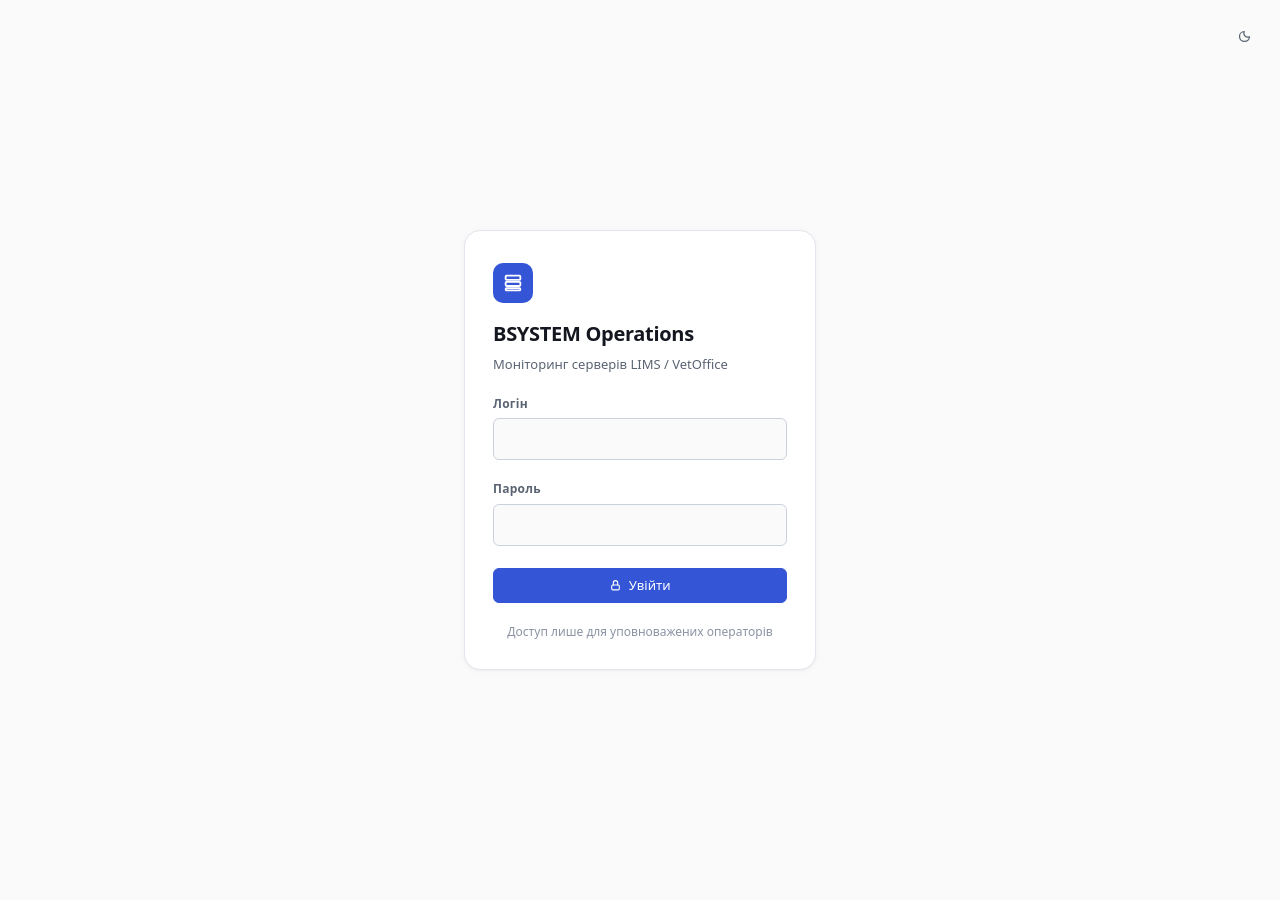
App › logs in and shows the overview with the server from the mock API
Type "admin" into the field labelled "Логін" at (640, 439), box [493,418,787,460]
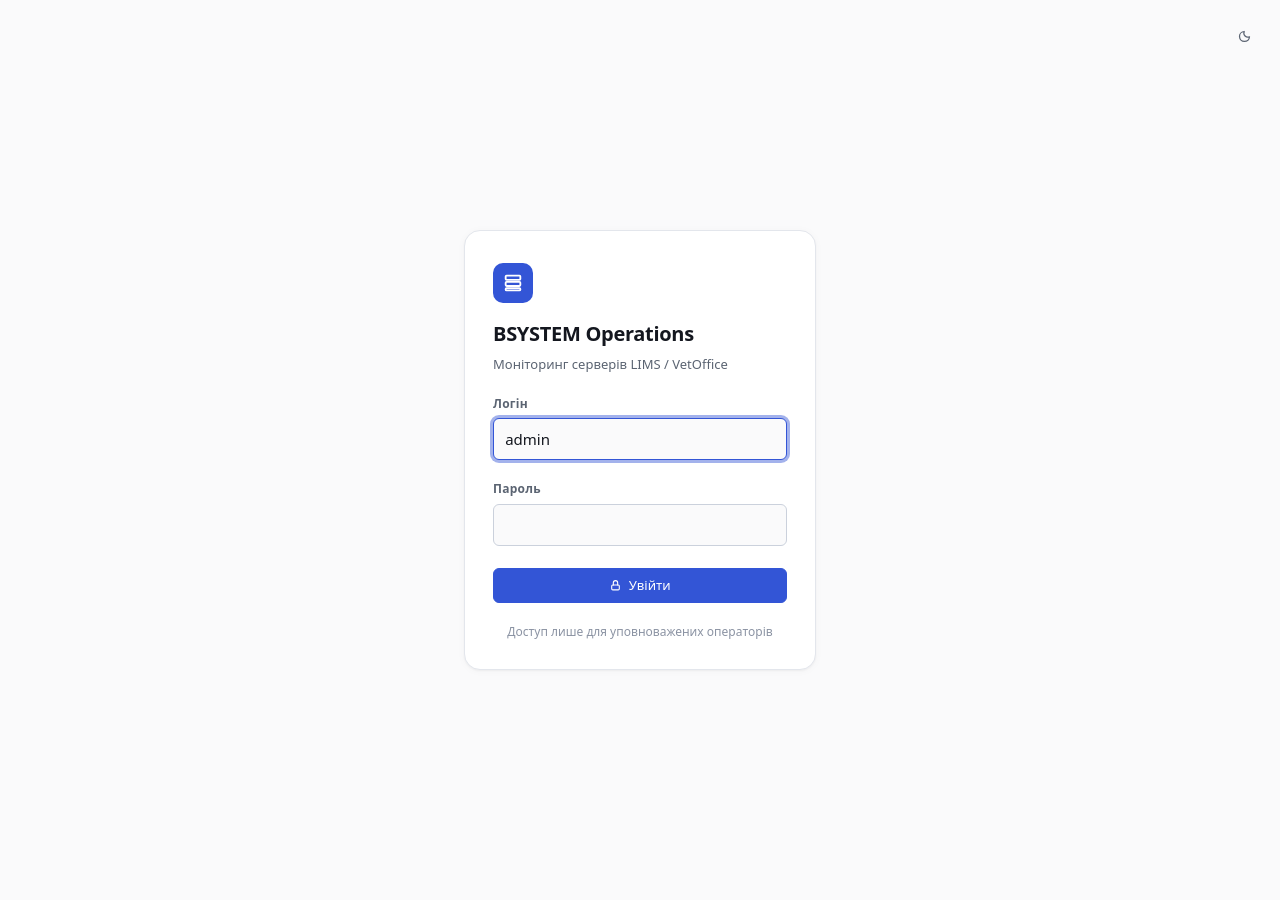
Type "test-password" into the password field labelled "Пароль" at (640, 525), box [493,504,787,546]
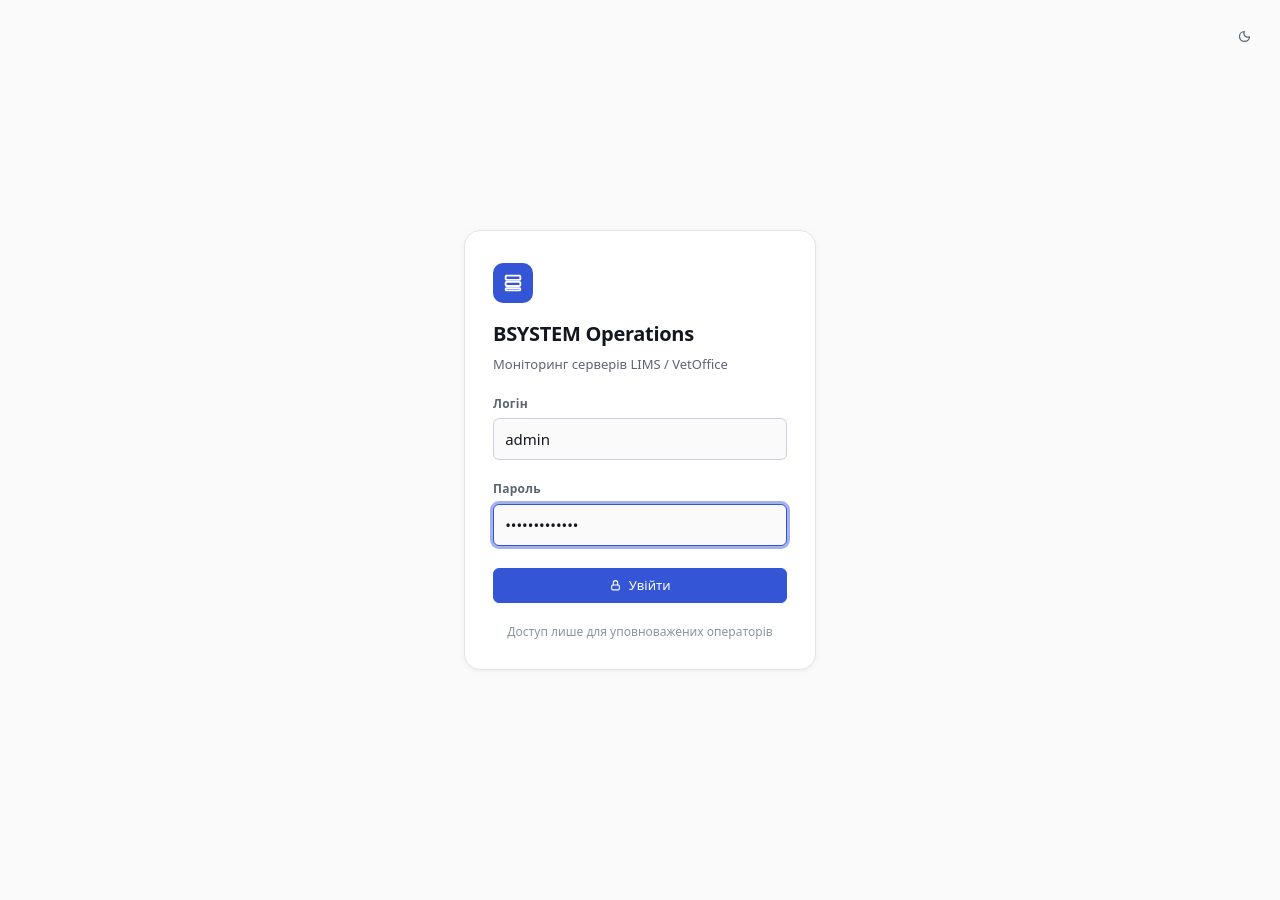
Click the button "Увійти" at (640, 585), box [493,568,787,603]
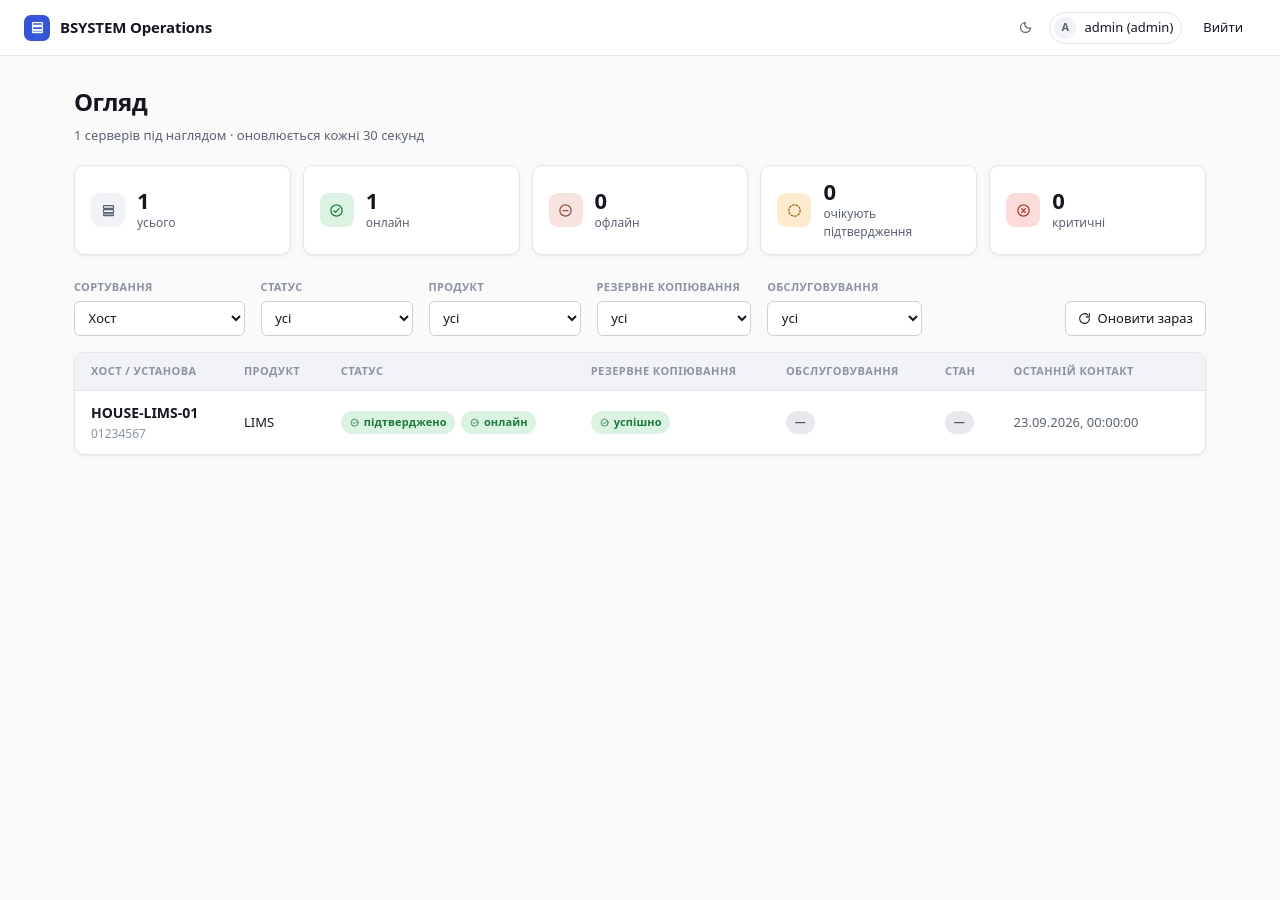
Expected: the button "HOUSE-LIMS-01" is shown, [91,402,198,423]
Expected: the text "A admin (admin)" is shown, [1049,12,1182,44]
